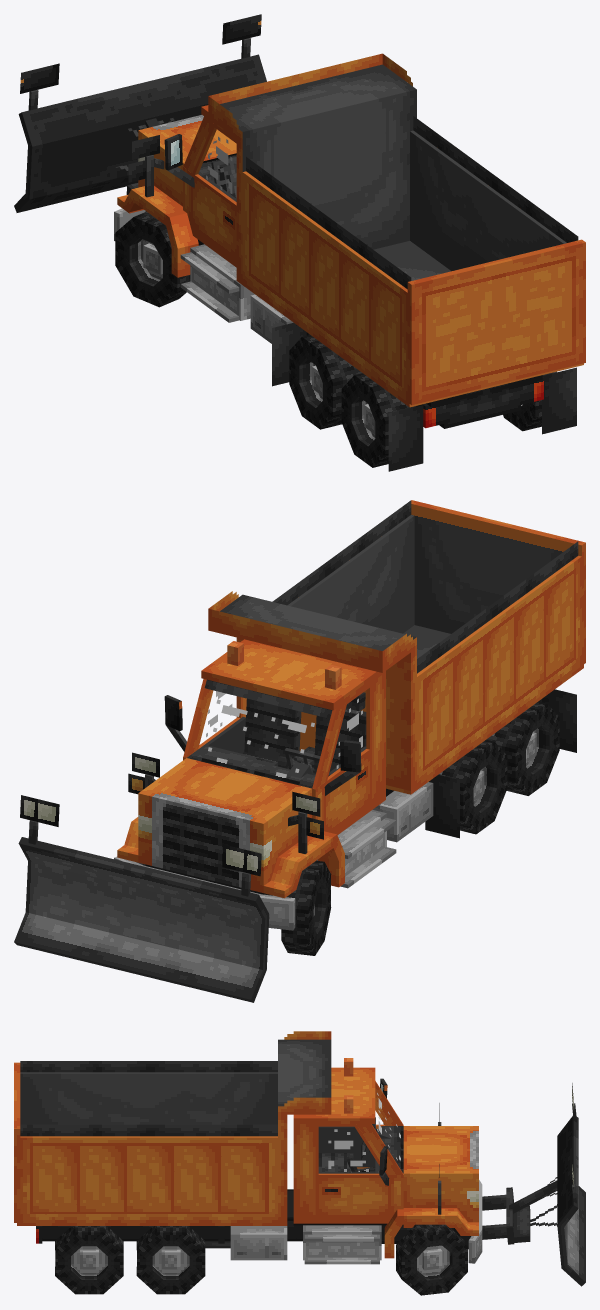
File: snowplow_truck_old_model.glb
3 views of the same model, one above another, from view 1: azimuth 30°, elevation 25°; view 2: azimuth 150°, elevation 25°; view 3: azimuth 270°, elevation 25° (orthographic). The views are drawn at different scales.
Parts seen in each view (by area): view 1: cube_127, cube_135, cube_128, cube_126, cube_99, cube_129, cube_93, cube_125, cube_105, cube_39, cube_70, cube_133 (+23 smaller); view 2: cube_135, cube_39, cube_127, cube_93, cube_98, cube_126, cube_18, cube_129, cube_99, cube_128, cube_4, cube_133 (+29 smaller); view 3: cube_126, cube_135, cube_39, cube_129, cube_134, cube_115, cube_133, cube_18, cube_50, cube_99, cube_62, cube_13 (+48 smaller).
Part boxes in pixels (x1,y1,x2,y2): cube_127: (407,239,585,405); cube_135: (242,171,407,401); cube_128: (236,100,416,281); cube_126: (410,130,566,271); cube_99: (18,54,266,146); cube_129: (208,64,416,142); cube_93: (25,104,208,199); cube_125: (236,241,583,407); cube_105: (191,172,236,259); cube_39: (138,115,236,206); cube_70: (421,377,543,428); cube_133: (246,157,411,289); cube_135: (417,555,581,786); cube_39: (138,758,311,892); cube_127: (411,500,585,665); cube_93: (25,861,269,972); cube_98: (14,912,266,1002); cube_126: (287,515,414,633); cube_18: (201,639,385,710); cube_129: (208,594,416,672); cube_99: (18,837,268,918); cube_128: (236,637,416,790); cube_4: (244,698,301,759); cube_133: (417,541,578,673); cube_126: (20,1136,277,1222); cube_135: (20,1072,277,1124); cube_39: (403,1126,478,1227); cube_129: (278,1039,331,1114); cube_134: (20,1124,277,1136); cube_115: (315,1173,390,1217); cube_133: (20,1061,277,1072); cube_18: (293,1067,375,1123); cube_50: (303,1225,381,1260); cube_99: (557,1116,578,1226); cube_62: (230,1226,287,1260); cube_13: (296,1124,315,1217).
Bounding box in the file's own units: 4.32 × 4.31 × 11.38.
Materials: 1 (1 with a texture image).
